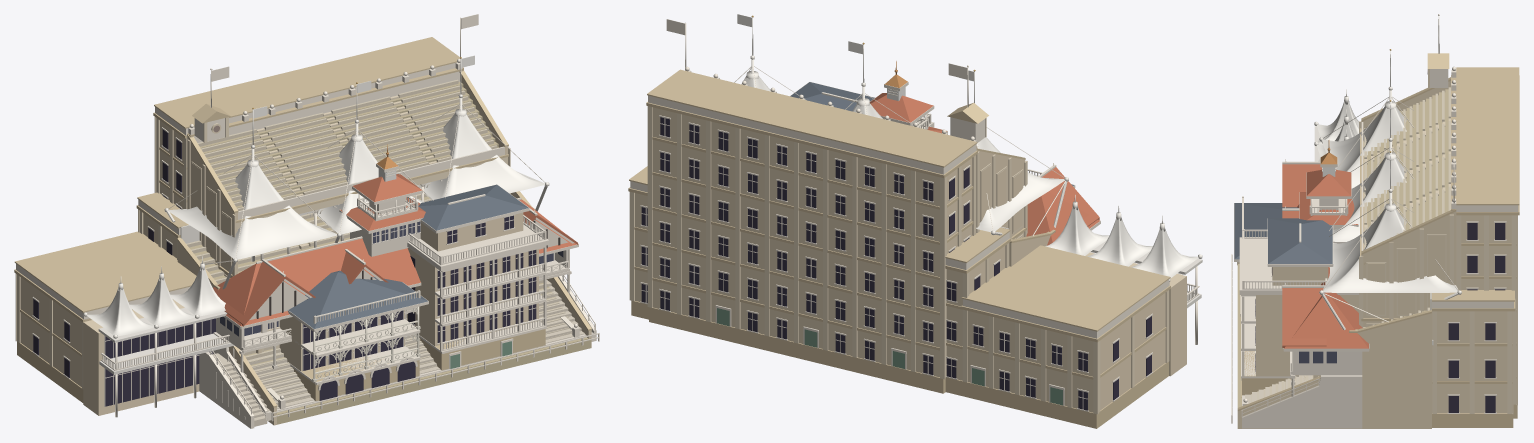
File: gen-downs-r-big_stands.glb
3 renders of one model, left to right at view 1: azimuth 30°, elevation 25°; view 2: azimuth 150°, elevation 25°; view 3: azimuth 270°, elevation 25°, orthographic. The views are drawn at different scales.
Visible parts, largest first — view 1: park_tent_stand, park_roof_terrace_stand, york_pavilions, gen_pavilion_stand_red; view 2: park_roof_terrace_stand, park_tent_stand, gen_pavilion_stand_red, york_pavilions; view 3: park_roof_terrace_stand, park_tent_stand, gen_pavilion_stand_red, york_pavilions.
Boxes of the visible parts, bbox=[...] form: park_tent_stand: bbox=[14, 55, 591, 425]; park_roof_terrace_stand: bbox=[153, 14, 579, 409]; york_pavilions: bbox=[279, 184, 549, 403]; gen_pavilion_stand_red: bbox=[199, 144, 599, 428]; park_roof_terrace_stand: bbox=[646, 19, 1027, 393]; park_tent_stand: bbox=[628, 14, 1202, 428]; gen_pavilion_stand_red: bbox=[869, 61, 1100, 252]; york_pavilions: bbox=[790, 82, 1075, 187]; park_roof_terrace_stand: bbox=[1242, 14, 1519, 418]; park_tent_stand: bbox=[1237, 49, 1515, 428]; gen_pavilion_stand_red: bbox=[1231, 140, 1369, 428]; york_pavilions: bbox=[1234, 196, 1358, 397].
Size of the model in its own units: 60.65 by 35.42 by 33.4.
